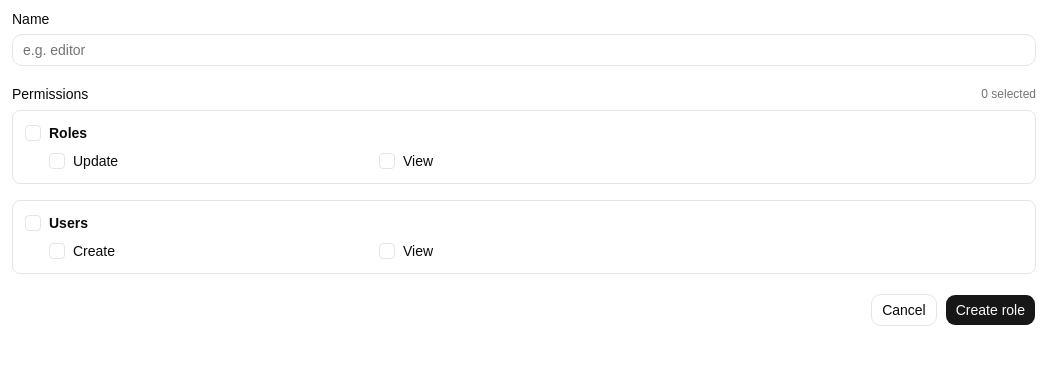
Test: RoleForm › surfaces a 422 validation error inline on submit
In the field labelled "Name": (524, 50) [12,34,1036,66], type "admin"
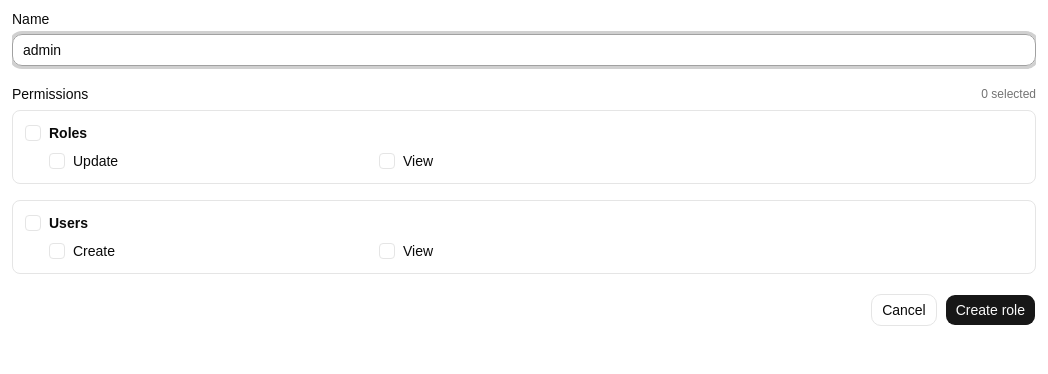
Click the button "Create role": (990, 310) [945,294,1036,326]
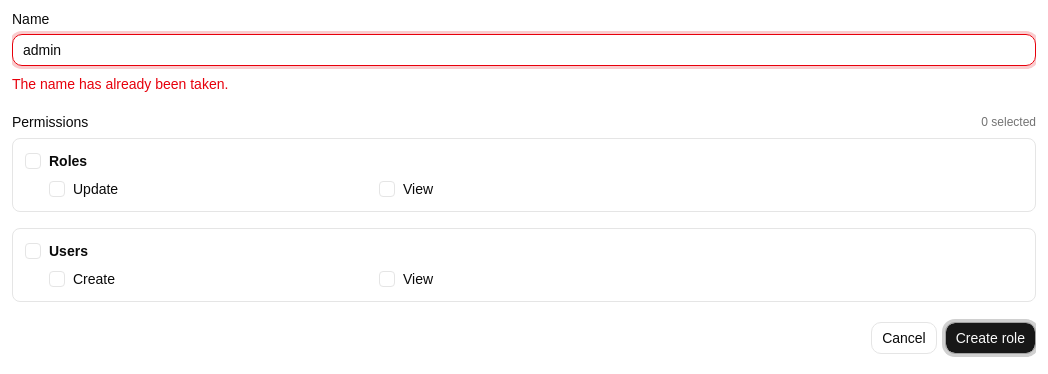
Now the text "The name has already been taken." is shown, box [12,76,228,92]
